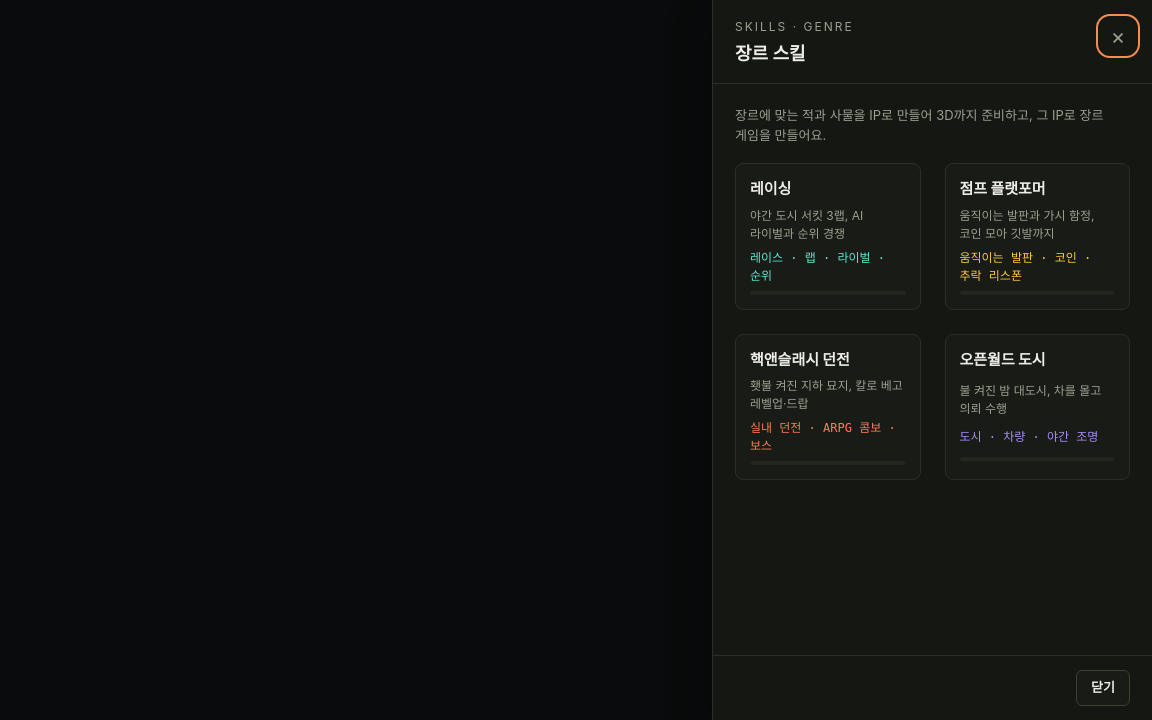
skills asset batch › skips an asset whose image failed, makes the rest and says their images are still being drawn
Later steps or results of the test are not shown.
Click the button "점프 플랫포머 움직이는 발판과 가시 함정, 코인 모아 깃발까지 움직이는 발판 · 코인 · 추락 리스폰": (1037, 236) [944,163,1130,310]
(page scrolled)
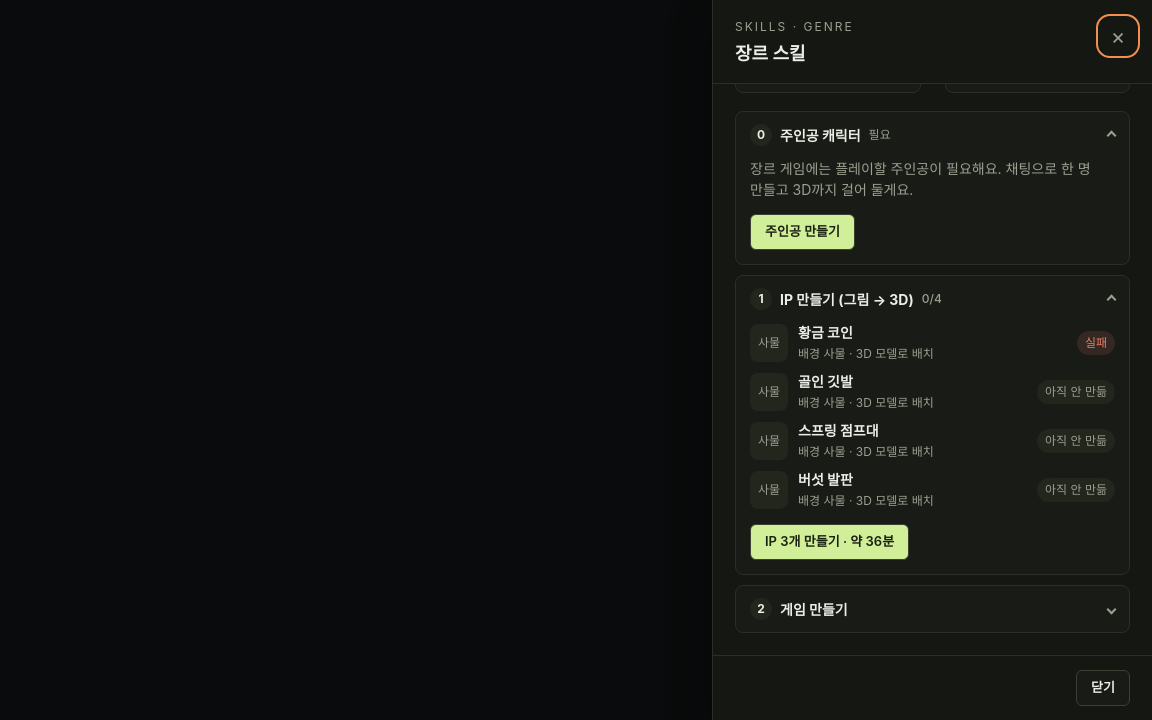
Expected: the text with class "skill-badge--failed" reads "실패", [1085,334,1107,350]
